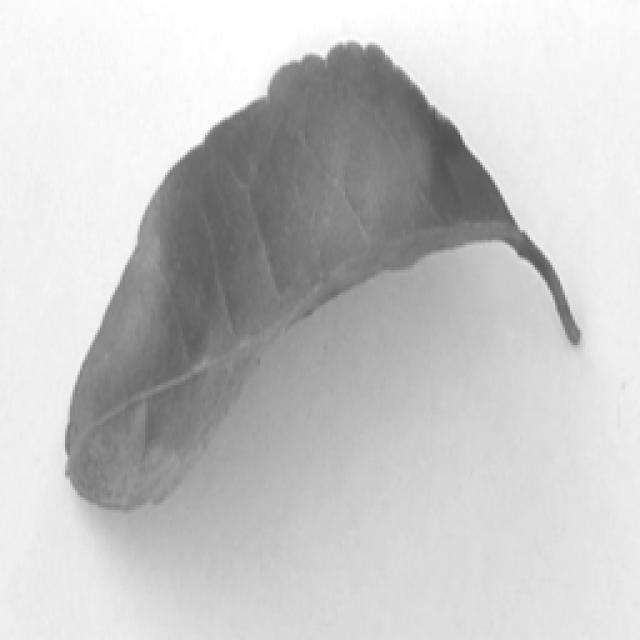greening: (49, 36, 590, 532)
